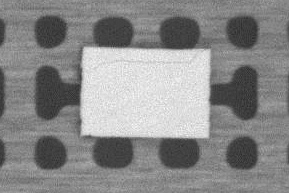DIE_CRACK: (94, 50, 203, 69)
